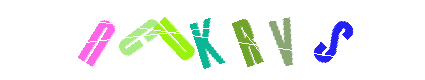C: (128, 0, 208, 80)
K: (165, 0, 245, 80)
N: (62, 0, 142, 80)
R: (173, 0, 253, 80)
S: (293, 0, 373, 80)
U: (135, 0, 215, 80)
V: (223, 0, 303, 80)
